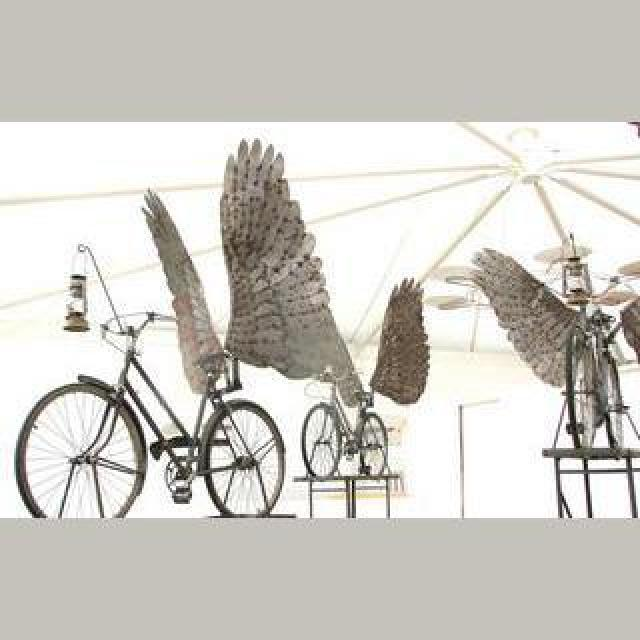Person: (13, 308, 293, 514), (467, 242, 639, 514), (300, 362, 390, 478)
